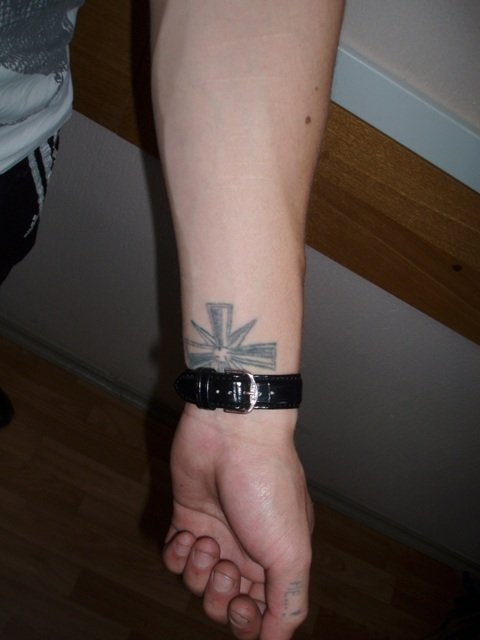tatu9_krest: (184, 299, 279, 370)
